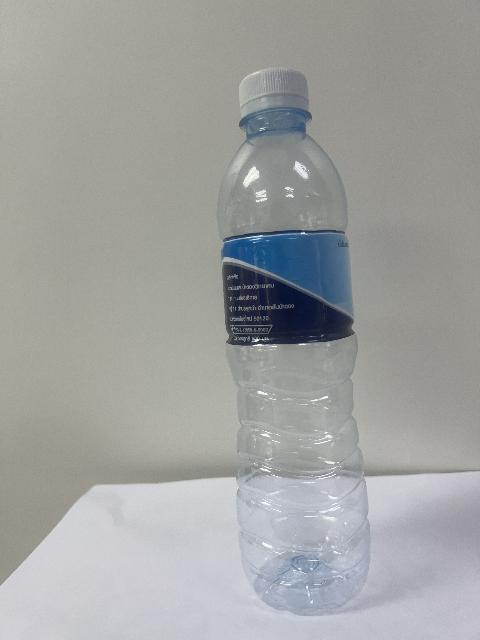bottle: (218, 68, 369, 615)
